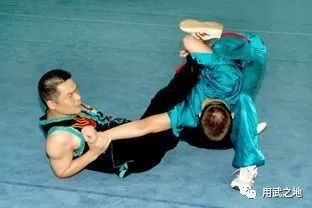falling: (49, 20, 257, 185)
